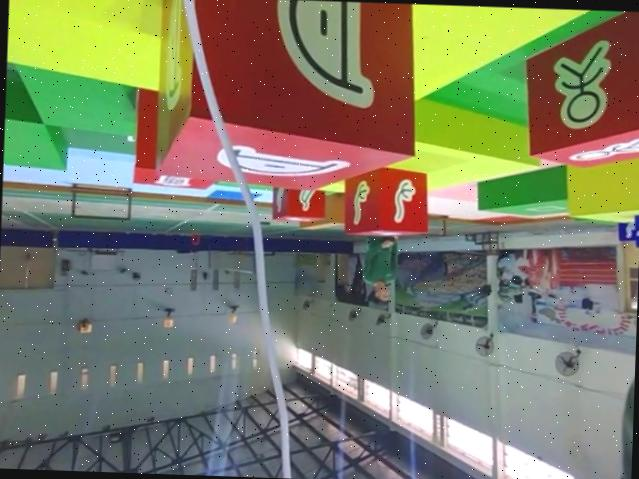R2 Real: (154, 0, 419, 193), (521, 7, 639, 168), (342, 164, 428, 236), (271, 174, 327, 223)
